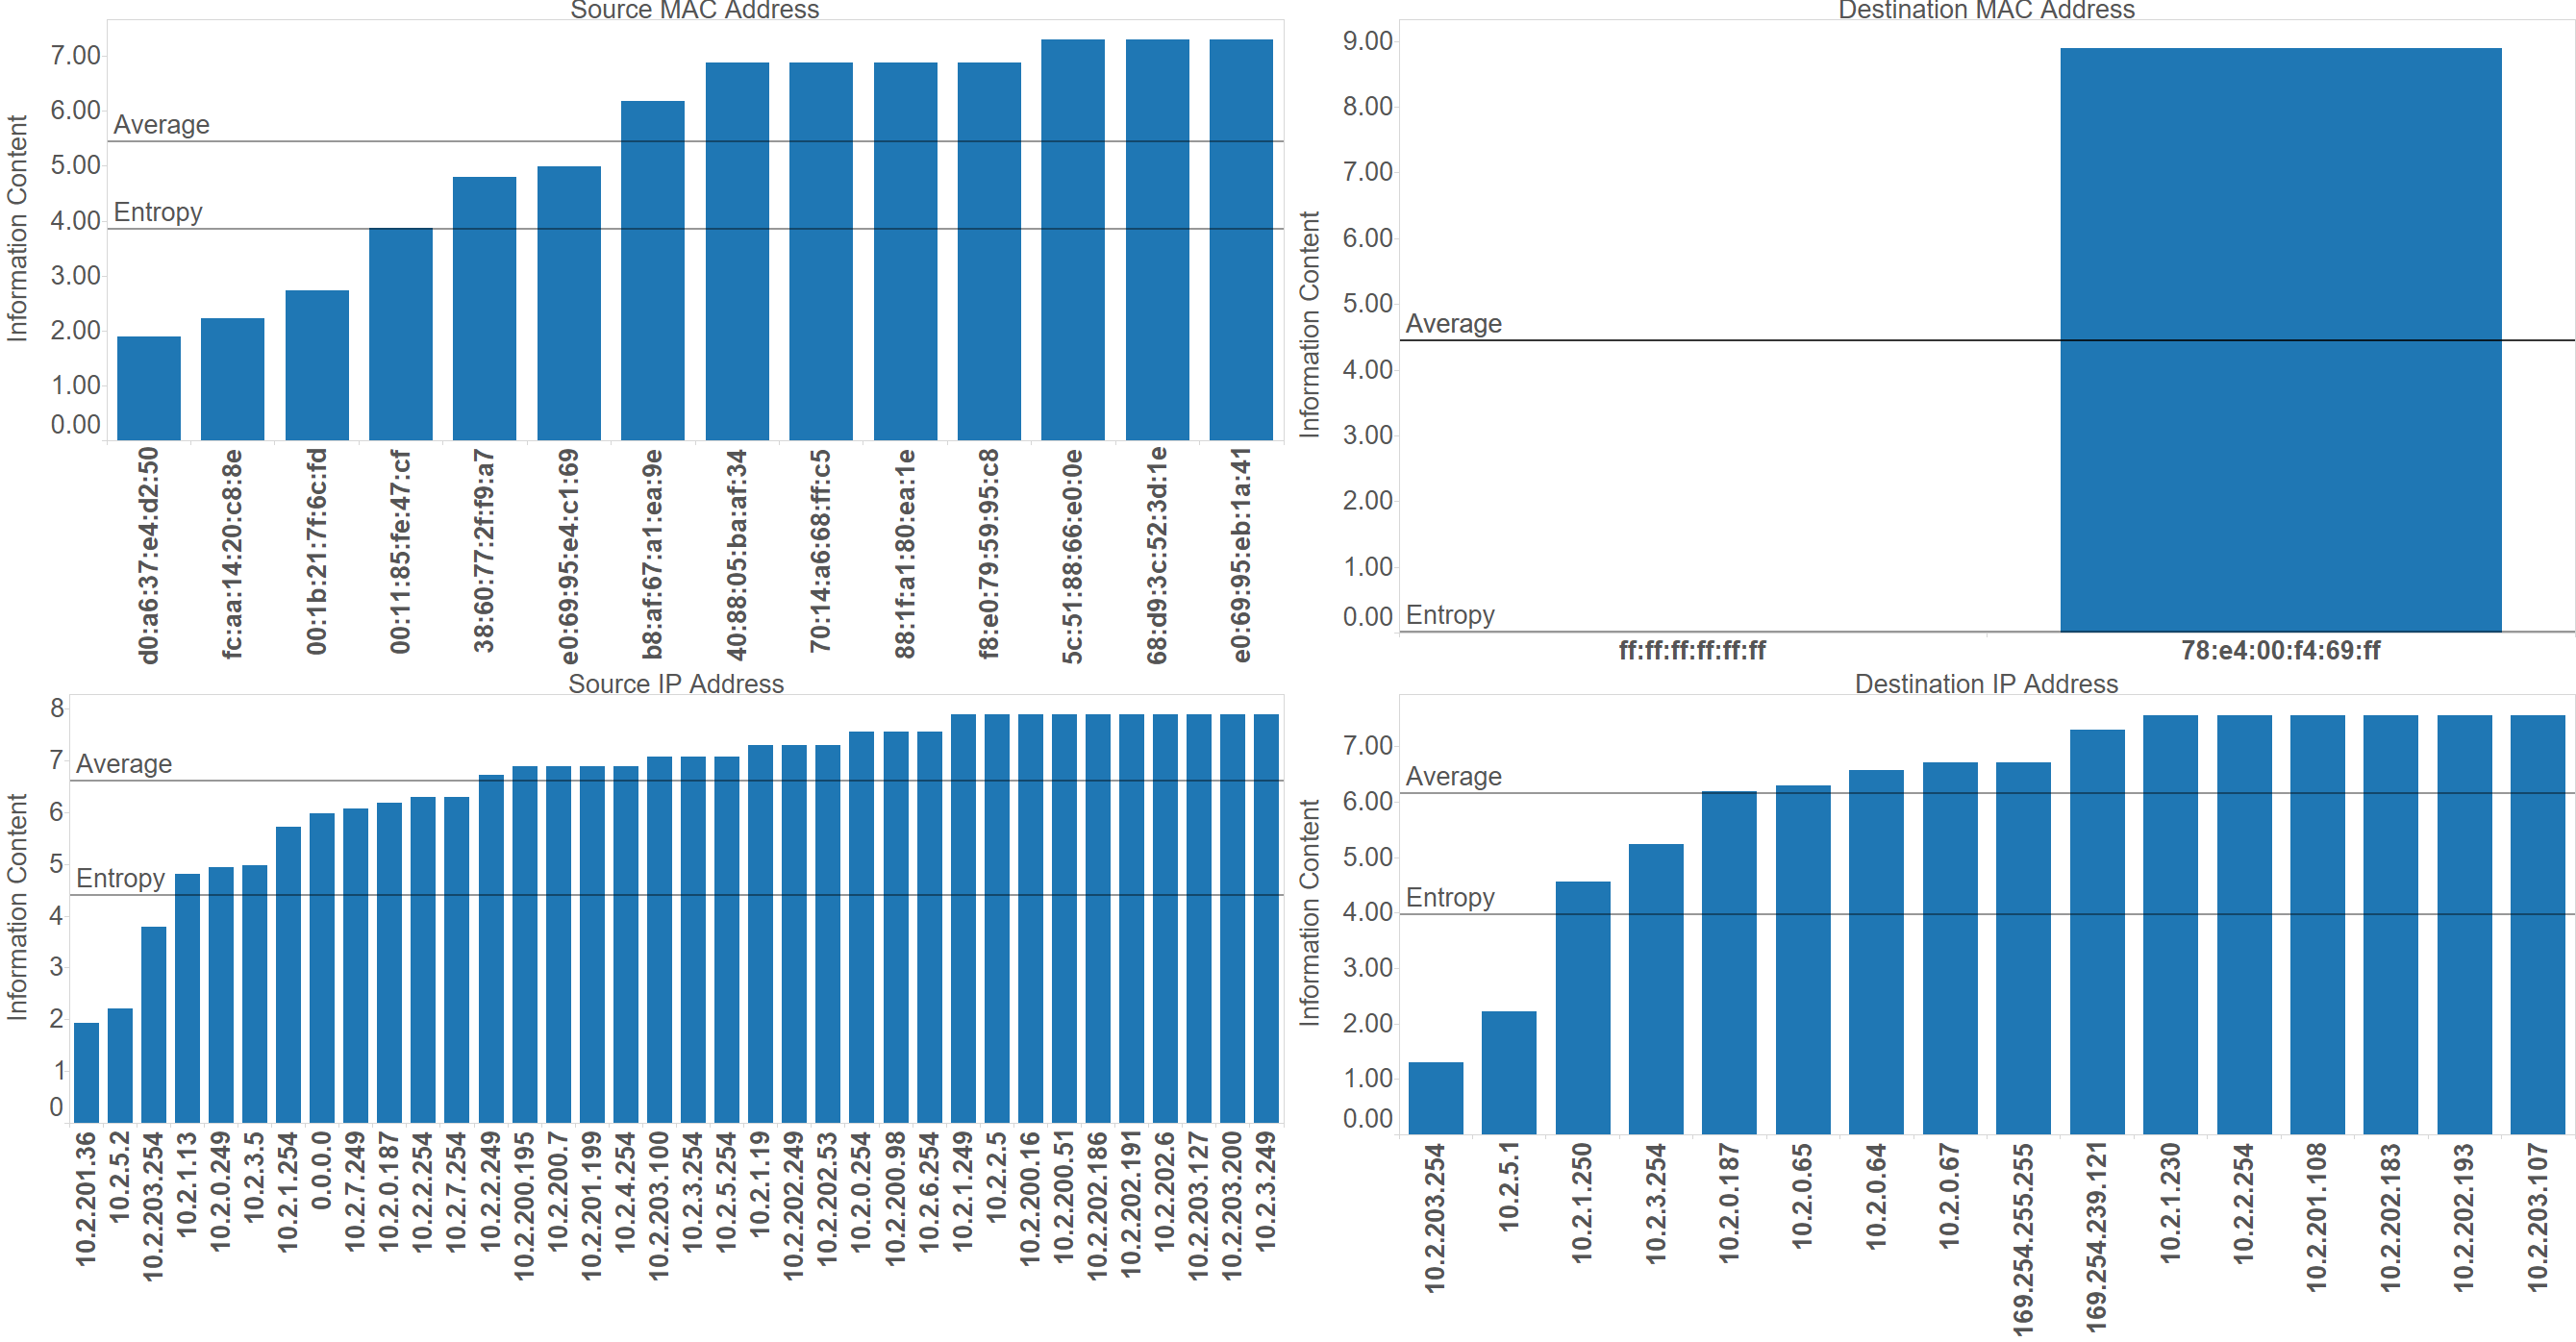

What the dashboard file says about the page in this screenshot:
{"tool":"tableau","page":{"name":"PDFs Dashboard","canvas":[1000,1000],"units":"permille","ordinal":1},"visuals":[{"type":"worksheet","title":"Source MAC PDF","mark":"Automatic","rows":["Calculation_558446359774420994"],"cols":["hwsrc"],"box":[0,0,500,500]},{"type":"worksheet","title":"Destination MAC PDF","mark":"Automatic","rows":["Calculation_558446359774584835"],"cols":["hwdst"],"box":[500,0,500,500]},{"type":"worksheet","title":"Source IP PDF","mark":"Automatic","rows":["Calculation_558446359785705483"],"cols":["ipsrc"],"box":[0,500,500,500]},{"type":"worksheet","title":"Destination IP PDF","mark":"Automatic","rows":["Calculation_558446359774961669"],"cols":["ipdst"],"box":[500,500,500,500]}]}

Visuals, with their boxes on the dashboard's canvas, which has no fixed pixel size, in thousandths of its width and height (x1, y1, x2, y2). These are canvas units, not pixel positions in the 2576x1342 screenshot, which may show the page scaled, cropped or inside an application window:
"Source MAC PDF" worksheet: 0, 0, 500, 500
"Destination MAC PDF" worksheet: 500, 0, 1000, 500
"Source IP PDF" worksheet: 0, 500, 500, 1000
"Destination IP PDF" worksheet: 500, 500, 1000, 1000
